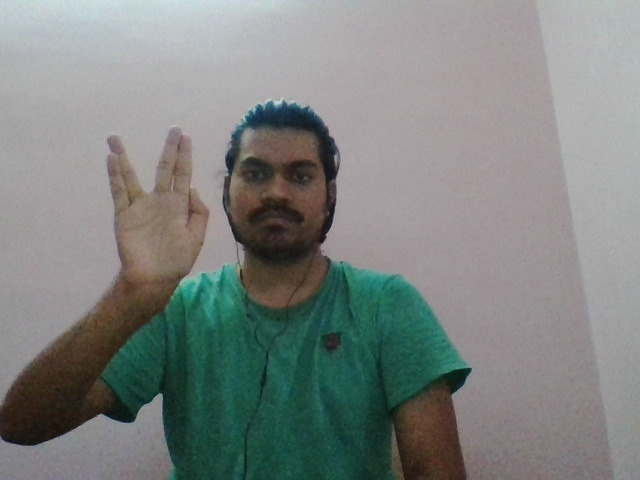LiveLong: (106, 126, 211, 288)
